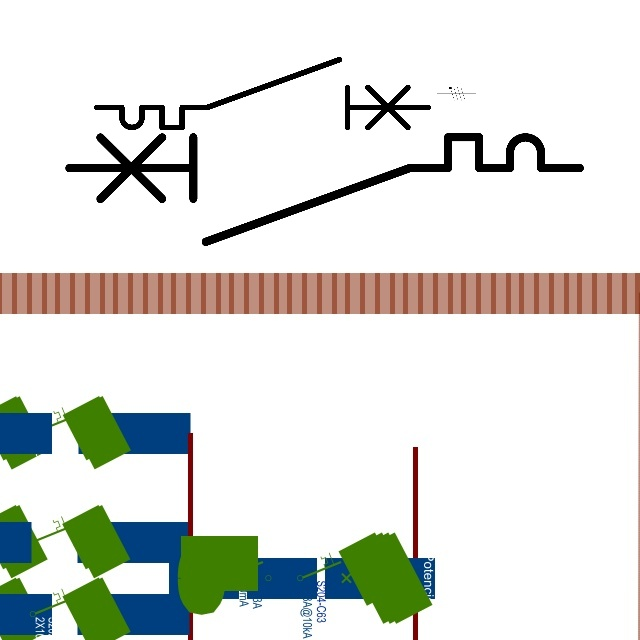interruptor_termomagnetico: (56, 124, 593, 255), (88, 51, 436, 136)
